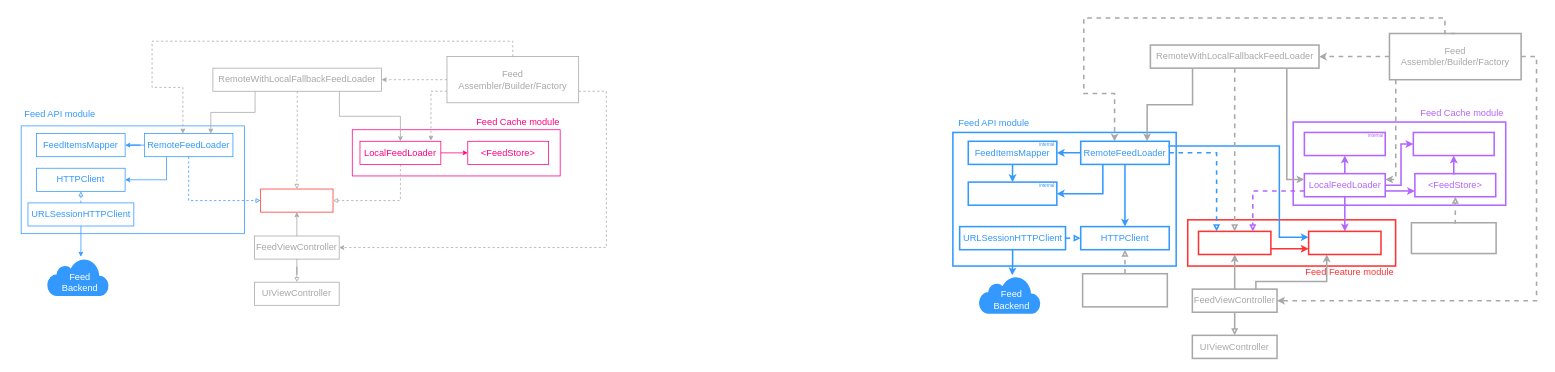
The diagram is 1555 pixels wide and 372 high, and some of its shapes have lost their labels. The shapes that lost their labels are listed below. From the top down, each one's box as (x1, y1, x2, y2) in pixels, then its label:
(1303, 131, 1386, 156): FeedCachePolicy
(1412, 131, 1495, 156): LocalFeedImage
(260, 188, 333, 212): <Feed Feature>
(967, 181, 1057, 206): RemoteFeedItem
(1197, 230, 1271, 255): <FeedLoader>
(1307, 230, 1381, 255): FeedImage
(1410, 222, 1496, 254): AnyFeedStore Implementation
(1081, 273, 1168, 307): AnyHTTPClient Implementation
